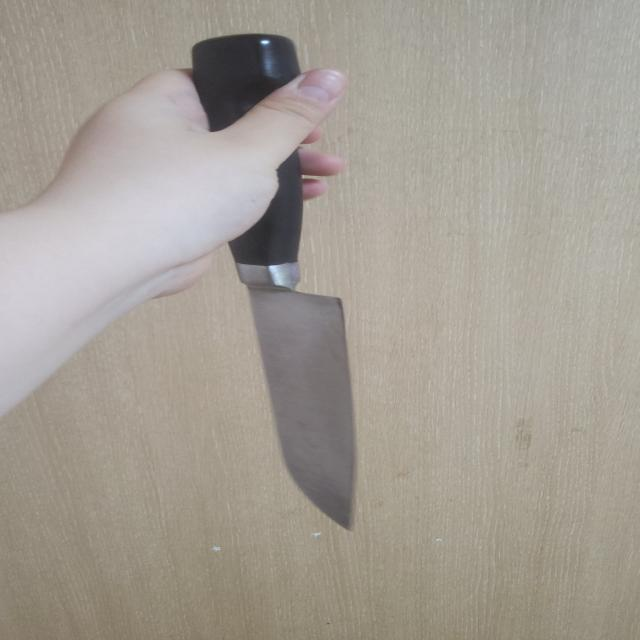knife: (191, 34, 355, 530)
